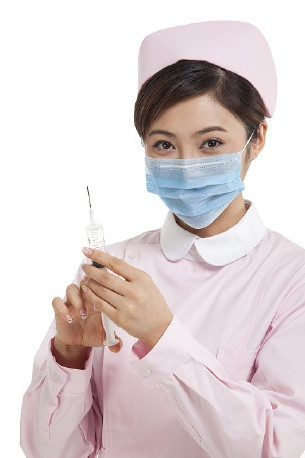Mask: (142, 117, 254, 230)
